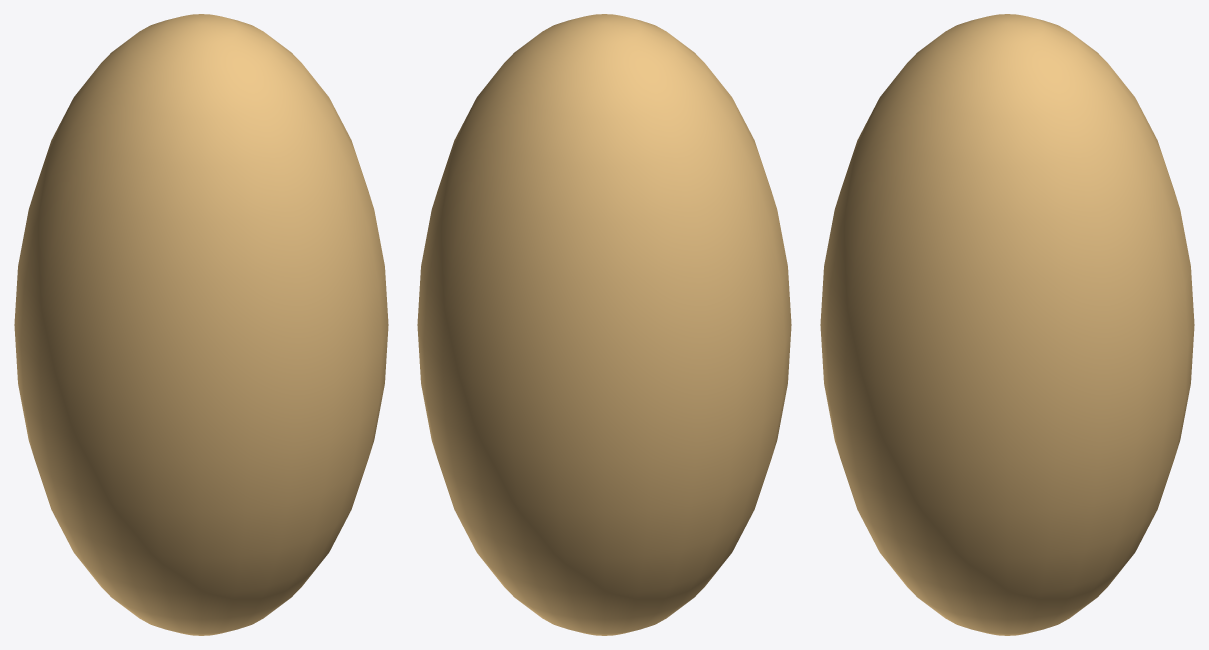
Rendered from mitochondrion.glb.
The picture shows the model from 3 angles, left to right: view 1: azimuth 30°, elevation 25°; view 2: azimuth 150°, elevation 25°; view 3: azimuth 270°, elevation 25°; orthographic projection.
Visible parts, largest first — view 1: outer; view 2: outer; view 3: outer.
Part boxes in pixels (<box>): outer: <box>14,14,388,635</box>; outer: <box>417,14,791,635</box>; outer: <box>820,14,1194,635</box>.
Size of the model in its own units: 0.9 by 1.6 by 0.9.
